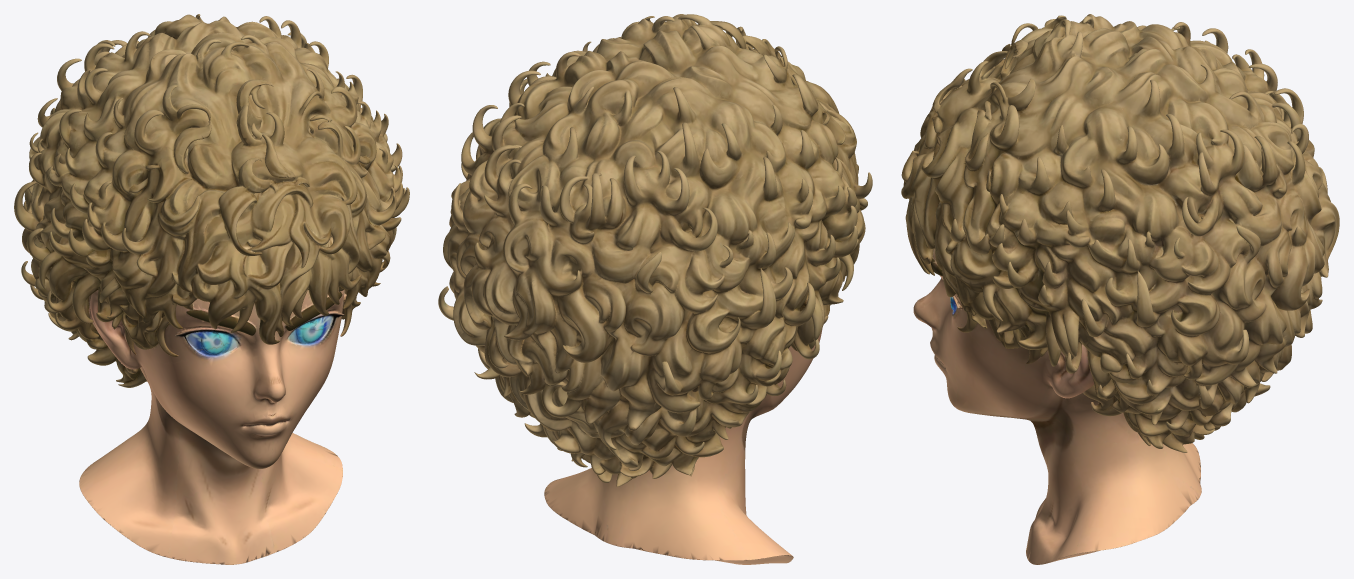
The model's file is kafa-1.glb.
The picture shows the model from 3 angles, left to right: view 1: azimuth 30°, elevation 25°; view 2: azimuth 150°, elevation 25°; view 3: azimuth 270°, elevation 25°; orthographic projection. The views are drawn at different scales.
Visible parts, largest first — view 1: KAFA_YILDIRIM; view 2: KAFA_YILDIRIM; view 3: KAFA_YILDIRIM.
Boxes of the visible parts, x1,y1,x2,y2 form: KAFA_YILDIRIM: [14, 14, 409, 564]; KAFA_YILDIRIM: [438, 14, 872, 564]; KAFA_YILDIRIM: [901, 14, 1339, 564].
Bounding box in the file's own units: 0.4651 × 0.6611 × 0.5005.
Materials: 1 (1 with a texture image).
